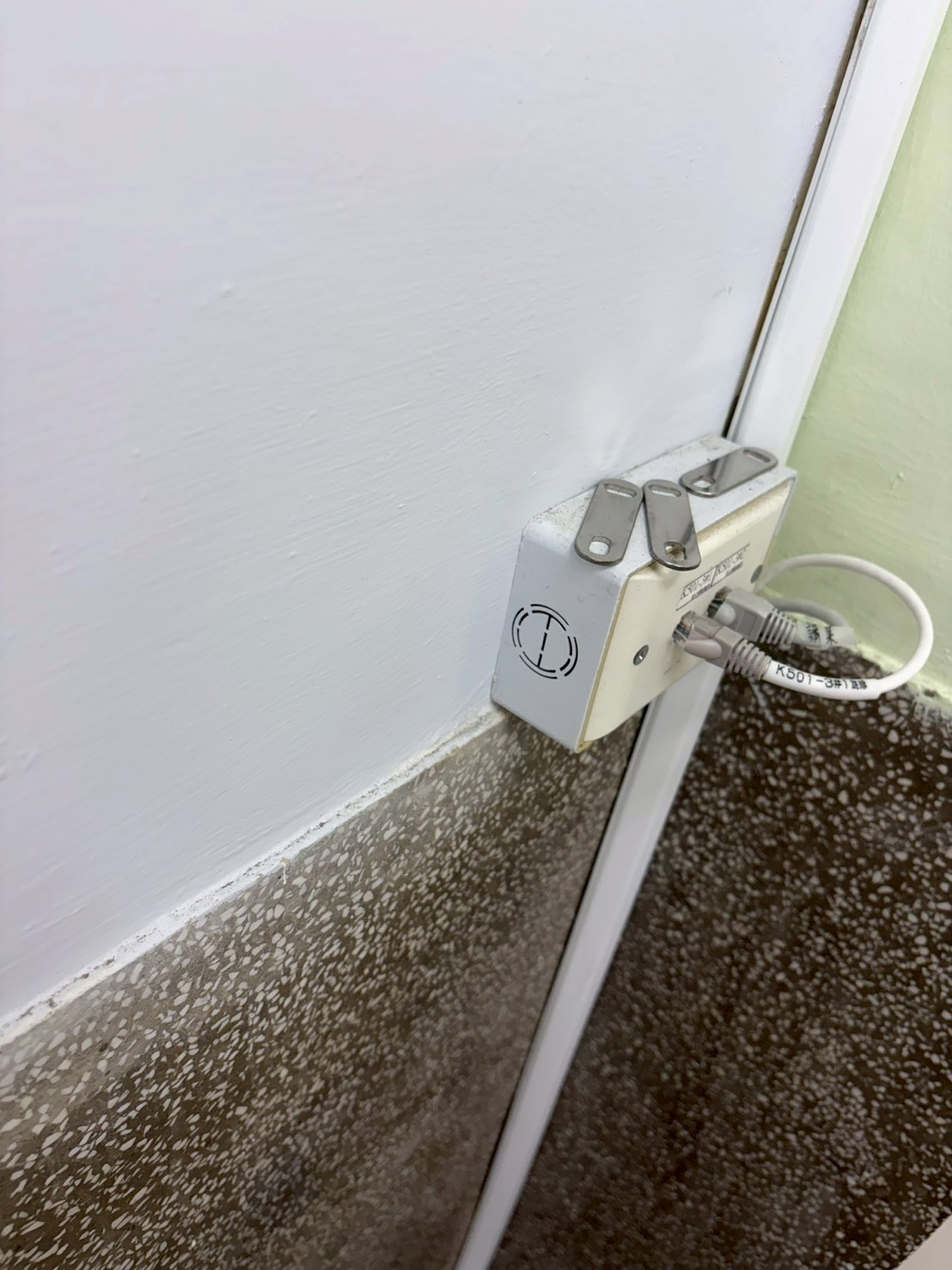Fe: (612, 456, 661, 585), (648, 475, 703, 577), (682, 474, 800, 510)
